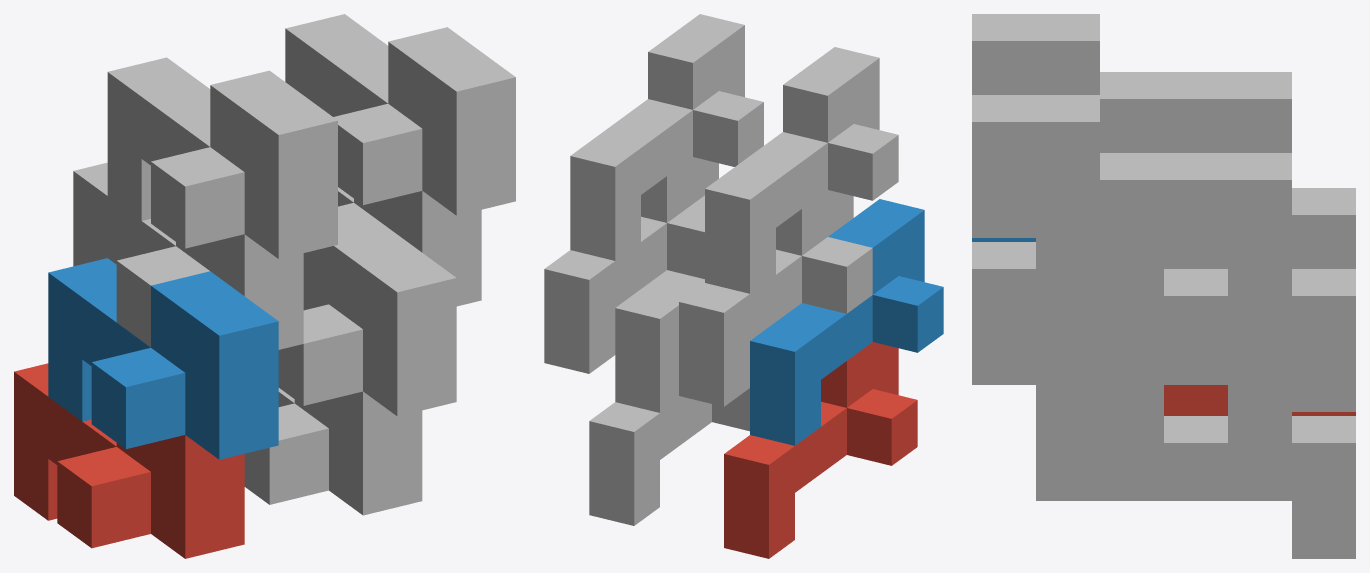
Rendered from tiling.obj.
3 views of the same model, side by side, from view 1: azimuth 30°, elevation 25°; view 2: azimuth 150°, elevation 25°; view 3: azimuth 270°, elevation 25° (orthographic). The views are drawn at different scales.
Visible parts, largest first — view 1: copy_1_domain_4, copy_1_domain_2, copy_1_domain_8, copy_1_domain_1, copy_1_domain_6, copy_1_domain_3, copy_1_domain_5, copy_1_domain_7; view 2: copy_1_domain_4, copy_1_domain_8, copy_1_domain_2, copy_1_domain_1, copy_1_domain_3, copy_1_domain_7, copy_1_domain_5, copy_1_domain_6; view 3: copy_1_domain_8, copy_1_domain_5, copy_1_domain_7, copy_1_domain_4, copy_1_domain_6, copy_1_domain_3, copy_1_domain_1.
Boxes of the visible parts, x1,y1,x2,y2 form: copy_1_domain_4: (107,57,337,258); copy_1_domain_2: (48,258,278,459); copy_1_domain_8: (285,14,515,215); copy_1_domain_1: (14,363,244,558); copy_1_domain_6: (278,228,456,416); copy_1_domain_3: (73,162,303,349); copy_1_domain_5: (244,388,422,515); copy_1_domain_7: (303,187,481,306); copy_1_domain_4: (705,47,898,293); copy_1_domain_8: (570,14,763,260); copy_1_domain_2: (750,199,943,445); copy_1_domain_1: (724,342,917,558); copy_1_domain_3: (679,190,872,406); copy_1_domain_7: (544,157,718,373); copy_1_domain_5: (589,388,749,525); copy_1_domain_6: (615,195,704,412); copy_1_domain_8: (972,95,1291,295); copy_1_domain_5: (1036,385,1355,558); copy_1_domain_7: (1036,238,1355,411); copy_1_domain_4: (972,14,1291,152); copy_1_domain_6: (972,242,1291,442); copy_1_domain_3: (1164,188,1355,268); copy_1_domain_1: (1164,385,1355,415).
Bounding box in the file's own units: 6 × 8 × 6.
